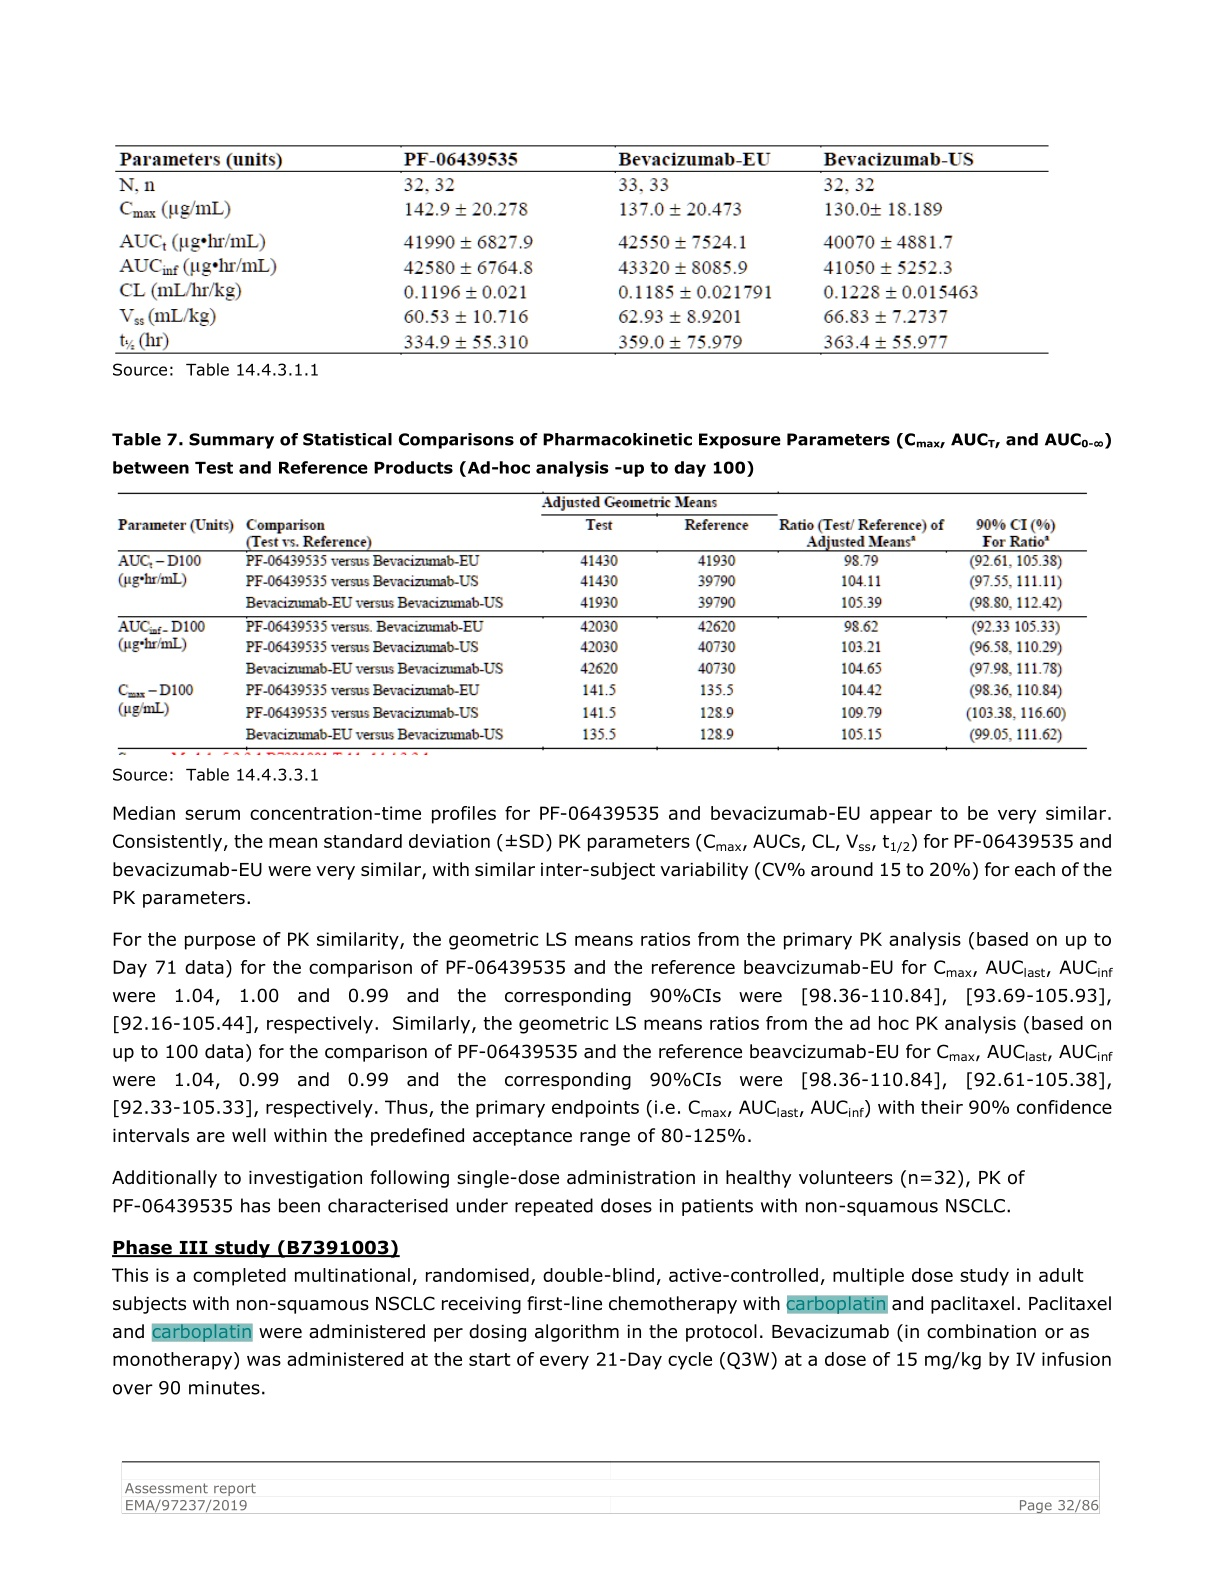partial_lined: (114, 144, 1050, 355)
partial_lined_merged_cells: (116, 492, 1088, 751)
